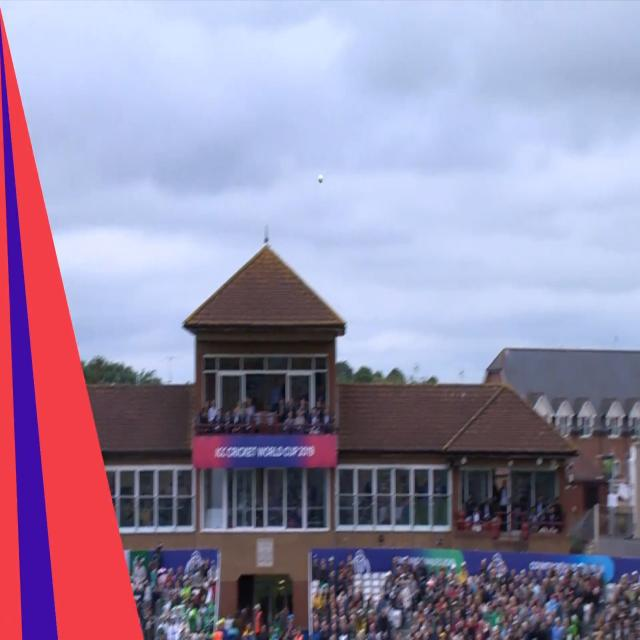ball: (316, 166, 326, 186)
